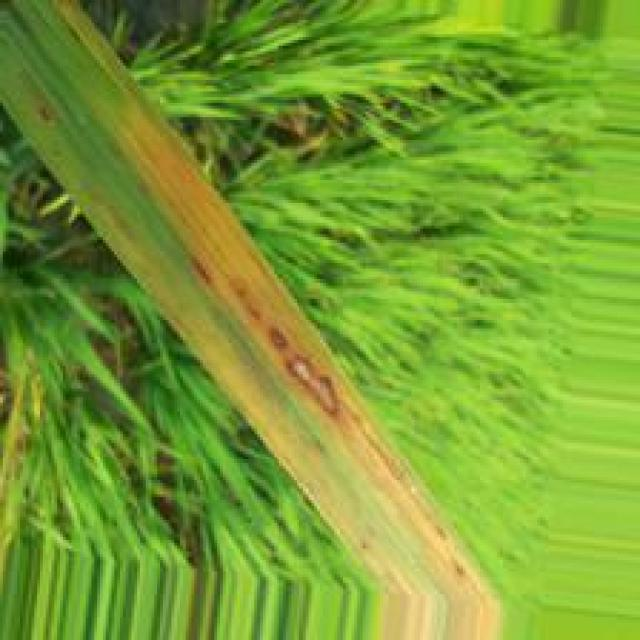Leaf_Blast: (111, 95, 507, 640)
